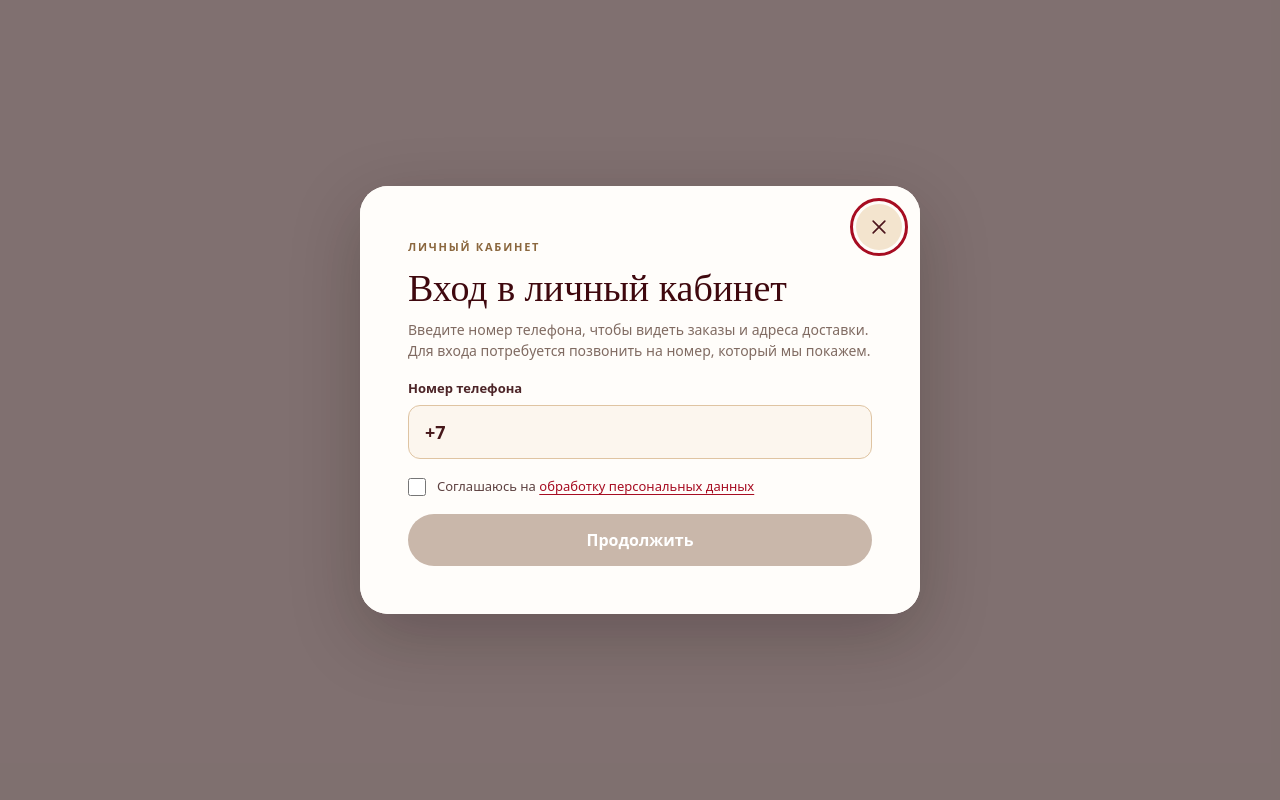
Test case: locks the phone, displays a safe tel link, and has no OTP or change-number control
This screenshot has width=1280, height=800.
Click the checkbox at (417, 487), box [408,478,426,496]
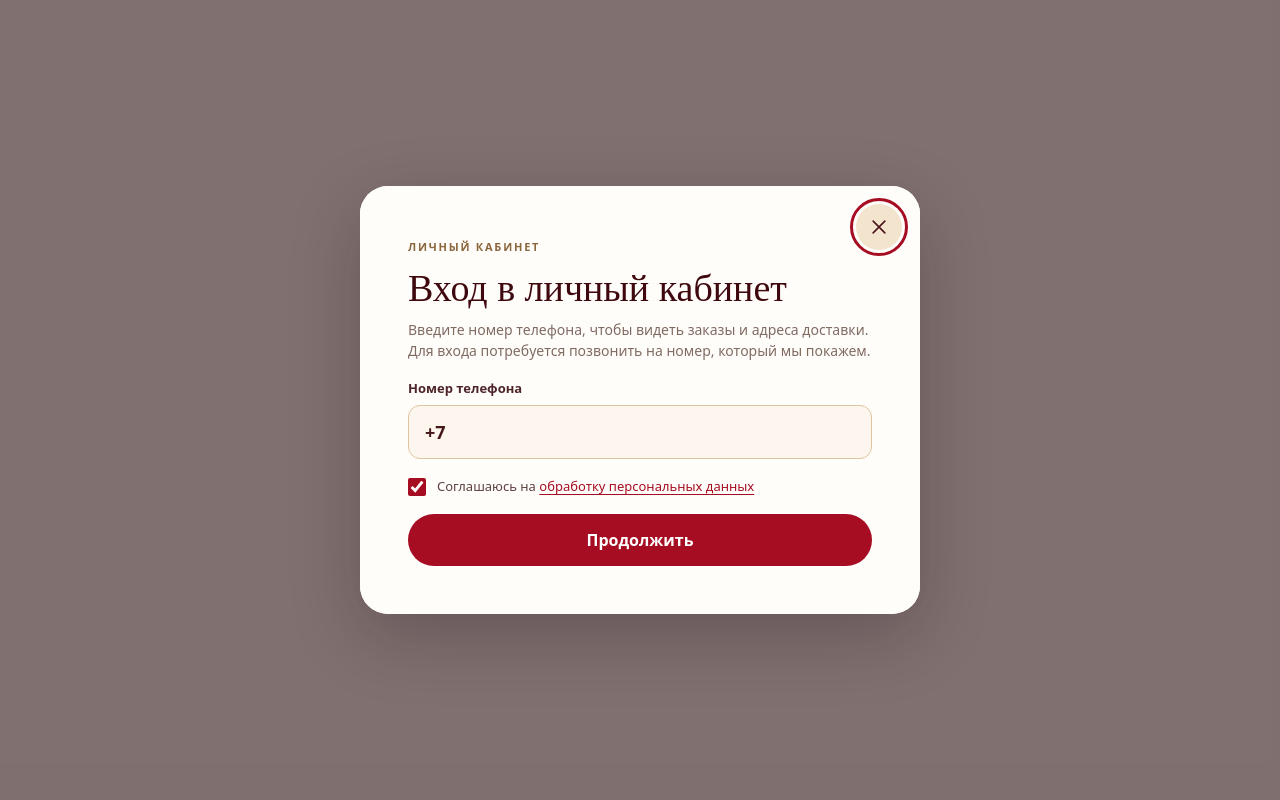
Replace the text in the field labelled "Номер телефона" with "9991234567" at (640, 432), box [408,405,872,459]
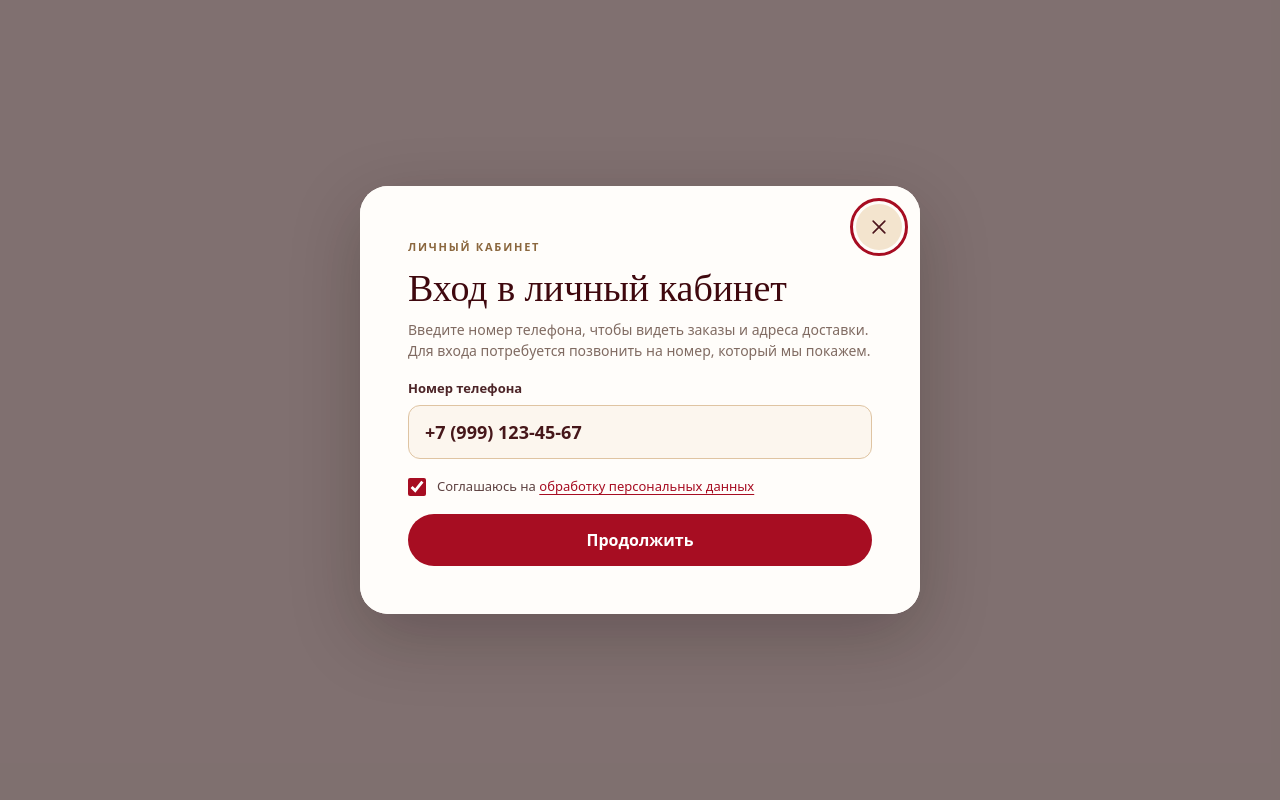
Click the button "Продолжить" at (640, 540), box [408,514,872,566]
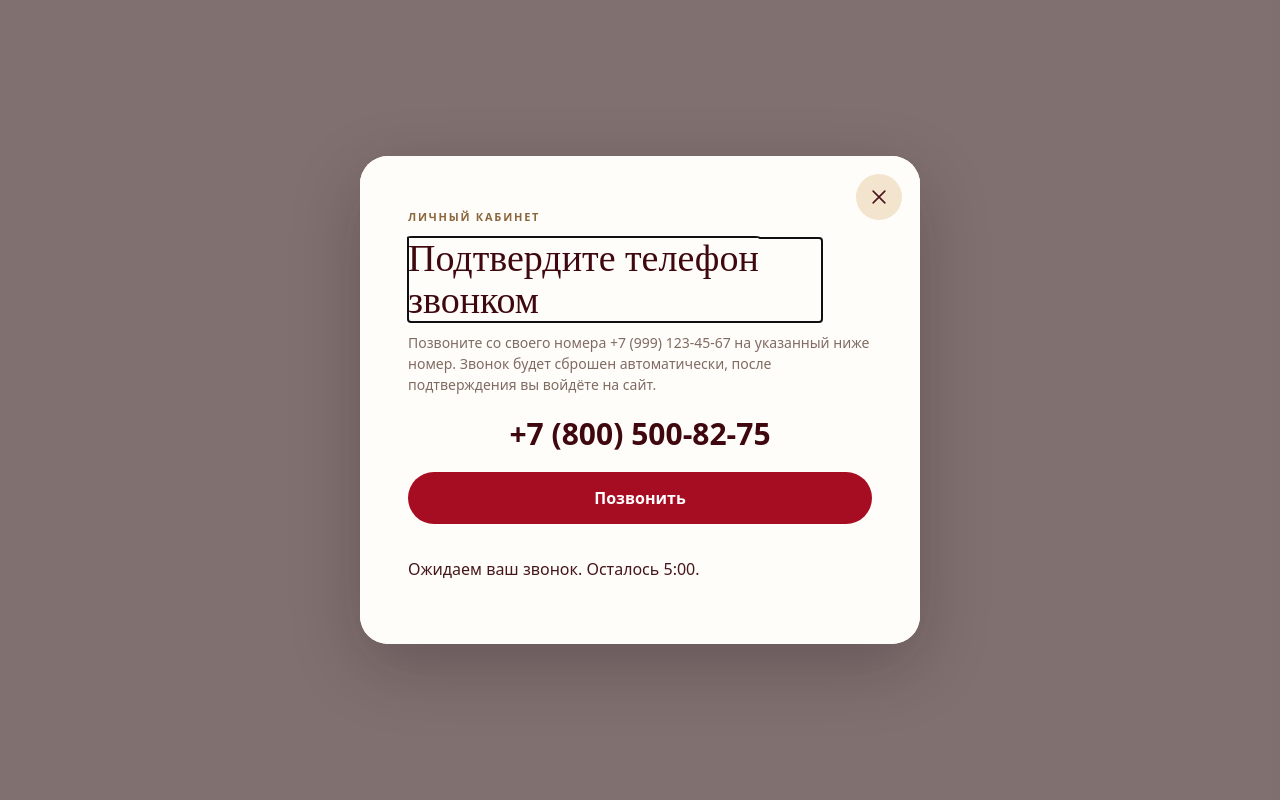
Expected: the field is gone
Expected: the text "со своего номера" is shown, [408,333,610,352]
